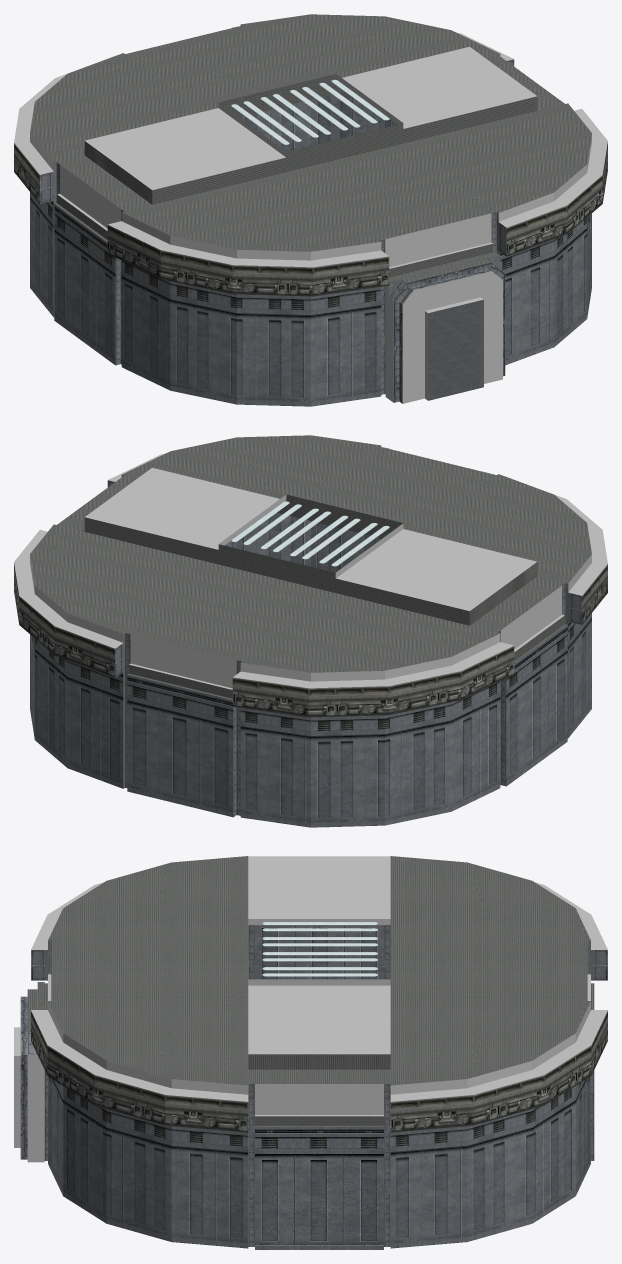
The model's file is poi_all_impl_bunker_warren_s01_r86_smallroom86_mesh_r86.fbx.
3 renders of one model, top to bottom at view 1: azimuth 30°, elevation 25°; view 2: azimuth 150°, elevation 25°; view 3: azimuth 270°, elevation 25°, orthographic. The views are drawn at different scales.
Visible parts, largest first — view 1: mesh_node; view 2: mesh_node; view 3: mesh_node.
Part boxes in pixels (x1=…): mesh_node: x1=14, y1=14, x2=607, y2=406; mesh_node: x1=14, y1=435, x2=607, y2=827; mesh_node: x1=14, y1=856, x2=607, y2=1249.
Bounding box in the file's own units: 17 × 6 × 17.5.
